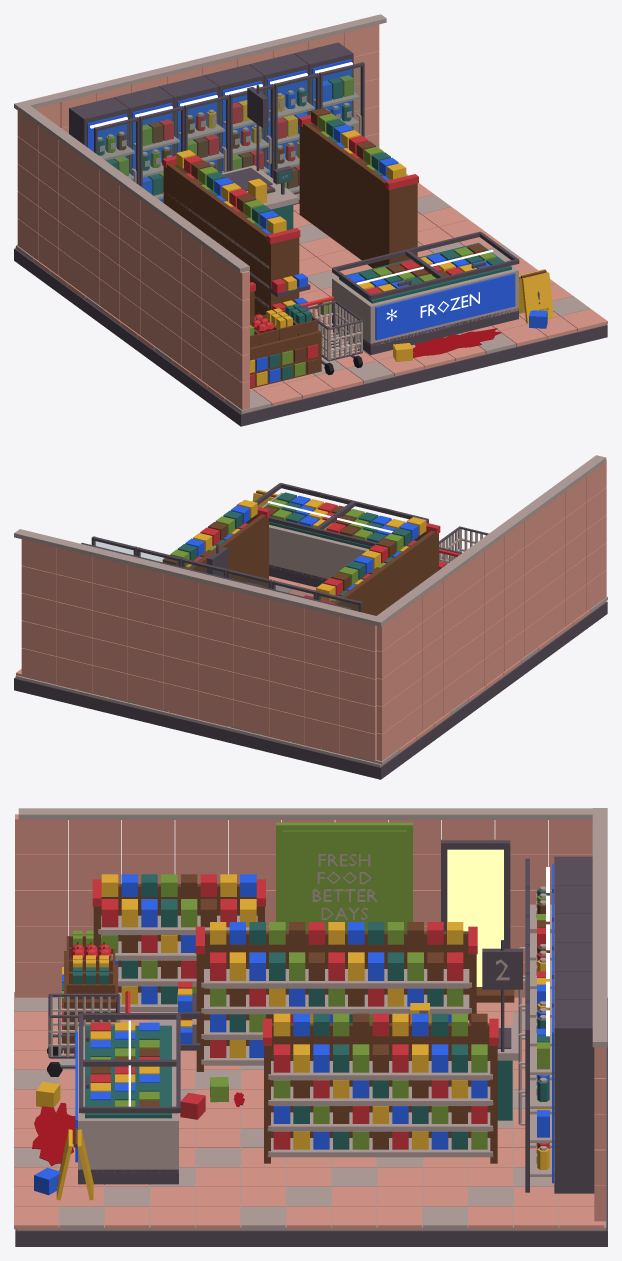
3 views of the same model, one above another, from view 1: azimuth 30°, elevation 25°; view 2: azimuth 150°, elevation 25°; view 3: azimuth 270°, elevation 25° (orthographic). The views are drawn at different scales.
Visible parts, largest first — view 1: lod2_static_pal_skinBlush, lod2_static_pal_leatherShadow, lod2_static_pal_sidewalk, lod2_static_pal_asphalt, lod2_static_pal_policeBlue, lod2_static_pal_schoolBusYellow, lod2_static_pal_backpackTeal, lod2_static_pal_survivorRed, door_fridge_04_mesh, lod2_static_pal_foliage, door_fridge_01_mesh, door_fridge_03_mesh (+7 smaller); view 2: lod2_static_pal_skinBlush, lod2_static_pal_sidewalk, lod2_static_pal_asphalt, lod2_static_pal_leatherShadow, lod2_static_pal_backpackTeal, lod2_static_pal_schoolBusYellow, lod2_static_pal_policeBlue, lod2_static_pal_survivorRed, lod2_static_pal_foliage, door_freezer_00_mesh, door_freezer_01_mesh, door_fridge_00_mesh; view 3: lod2_static_pal_skinBlush, lod2_static_pal_sidewalk, lod2_static_pal_asphalt, lod2_static_pal_leatherShadow, lod2_static_pal_foliage, lod2_static_pal_backpackTeal, lod2_static_pal_schoolBusYellow, lod2_static_pal_survivorRed, lod2_static_pal_policeBlue, static_emi_windowGlow, lod2_static_pal_blood, door_freezer_01_mesh (+3 smaller).
Boxes of the visible parts, x1,y1,x2,y2 form: lod2_static_pal_skinBlush: (17, 24, 607, 409); lod2_static_pal_leatherShadow: (117, 108, 546, 388); lod2_static_pal_sidewalk: (14, 14, 605, 413); lod2_static_pal_asphalt: (14, 42, 607, 426); lod2_static_pal_policeBlue: (87, 59, 547, 382); lod2_static_pal_schoolBusYellow: (176, 95, 553, 385); lod2_static_pal_backpackTeal: (97, 78, 511, 379); lod2_static_pal_survivorRed: (159, 102, 463, 387); door_fridge_04_mesh: (274, 73, 319, 204); lod2_static_pal_foliage: (106, 75, 496, 376); door_fridge_01_mesh: (139, 106, 184, 201); door_fridge_03_mesh: (229, 84, 274, 178); lod2_static_pal_skinBlush: (16, 460, 606, 761); lod2_static_pal_sidewalk: (14, 455, 607, 767); lod2_static_pal_asphalt: (14, 526, 607, 779); lod2_static_pal_leatherShadow: (162, 490, 438, 615); lod2_static_pal_backpackTeal: (177, 492, 411, 596); lod2_static_pal_schoolBusYellow: (185, 489, 426, 600); lod2_static_pal_policeBlue: (185, 496, 418, 590); lod2_static_pal_survivorRed: (194, 502, 460, 604); lod2_static_pal_foliage: (170, 499, 403, 601); door_freezer_00_mesh: (315, 501, 428, 546); door_freezer_01_mesh: (254, 483, 354, 532); door_fridge_00_mesh: (316, 591, 362, 612); lod2_static_pal_skinBlush: (14, 814, 605, 1229); lod2_static_pal_sidewalk: (14, 808, 607, 1230); lod2_static_pal_asphalt: (15, 839, 607, 1246); lod2_static_pal_leatherShadow: (62, 874, 549, 1163); lod2_static_pal_foliage: (62, 822, 549, 1149); lod2_static_pal_backpackTeal: (62, 874, 549, 1149); lod2_static_pal_schoolBusYellow: (36, 874, 549, 1200); lod2_static_pal_survivorRed: (62, 874, 549, 1149); lod2_static_pal_policeBlue: (34, 864, 553, 1195); static_emi_windowGlow: (447, 849, 503, 986); lod2_static_pal_blood: (32, 1092, 244, 1166); door_freezer_01_mesh: (79, 1060, 180, 1113).
Size of the model in its own units: 8.4 by 3.44 by 9.02.
